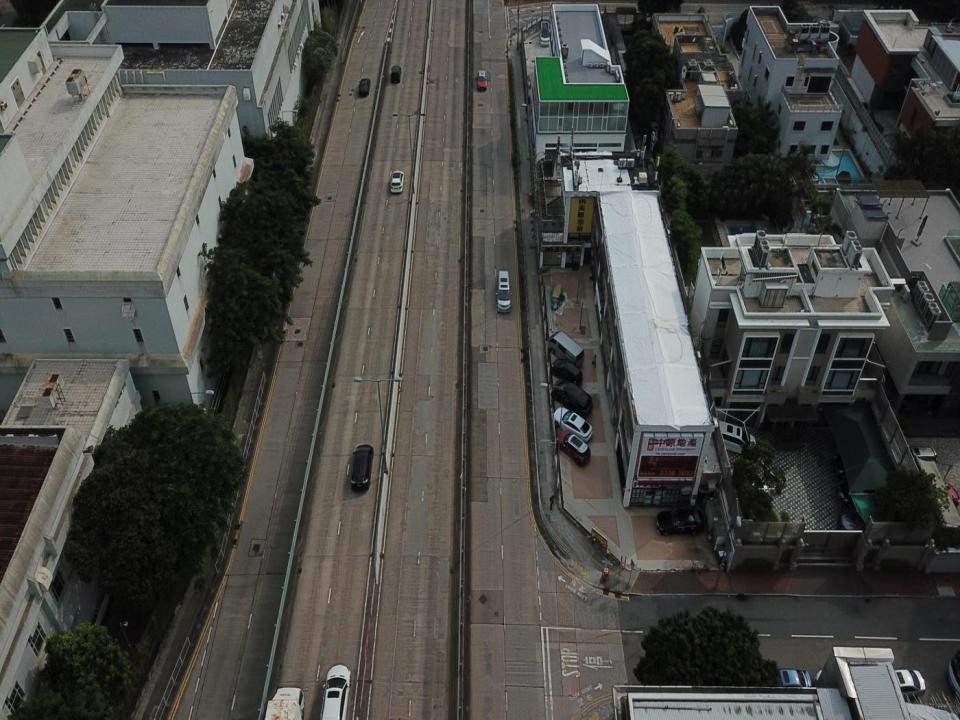car: (322, 664, 351, 719), (554, 406, 594, 445), (655, 511, 707, 536), (558, 429, 593, 466), (879, 668, 926, 695), (764, 667, 812, 690), (350, 445, 373, 491), (552, 357, 584, 387), (392, 169, 403, 194), (359, 78, 371, 97), (477, 68, 486, 90), (391, 64, 402, 82)
truck: (265, 686, 304, 719)
van: (552, 378, 596, 421), (549, 330, 585, 368), (495, 269, 512, 314)
